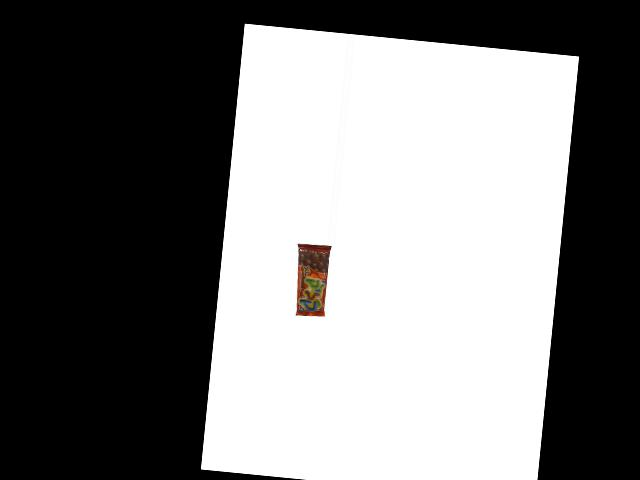chocolate: (292, 242, 331, 318)
